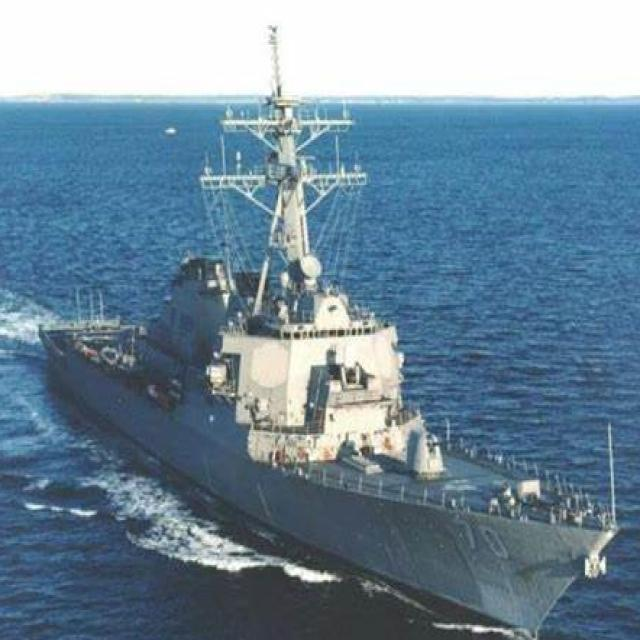navalvessels: (44, 21, 636, 633)
